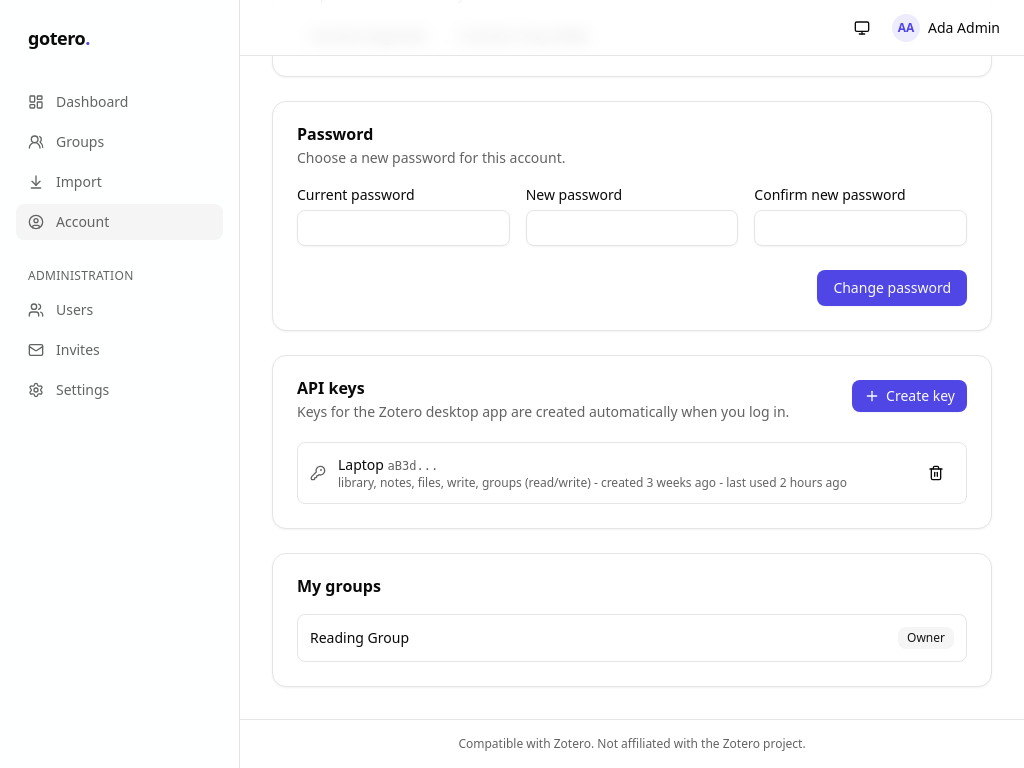
API keys › revokes a key after confirmation
The image size is (1024, 768).
(page scrolled)
Click the button named "Revoke Laptop" at (936, 473), box 918,455 -> 954,491
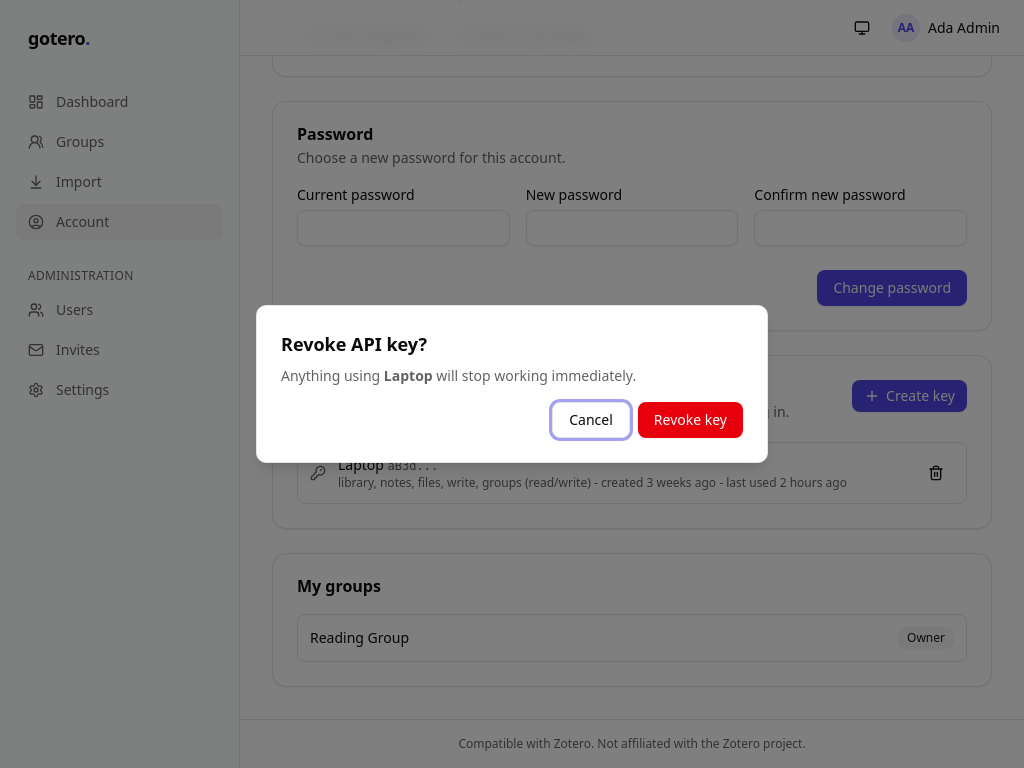
Click the button "Revoke key" at (690, 420), box 638,402 -> 743,438
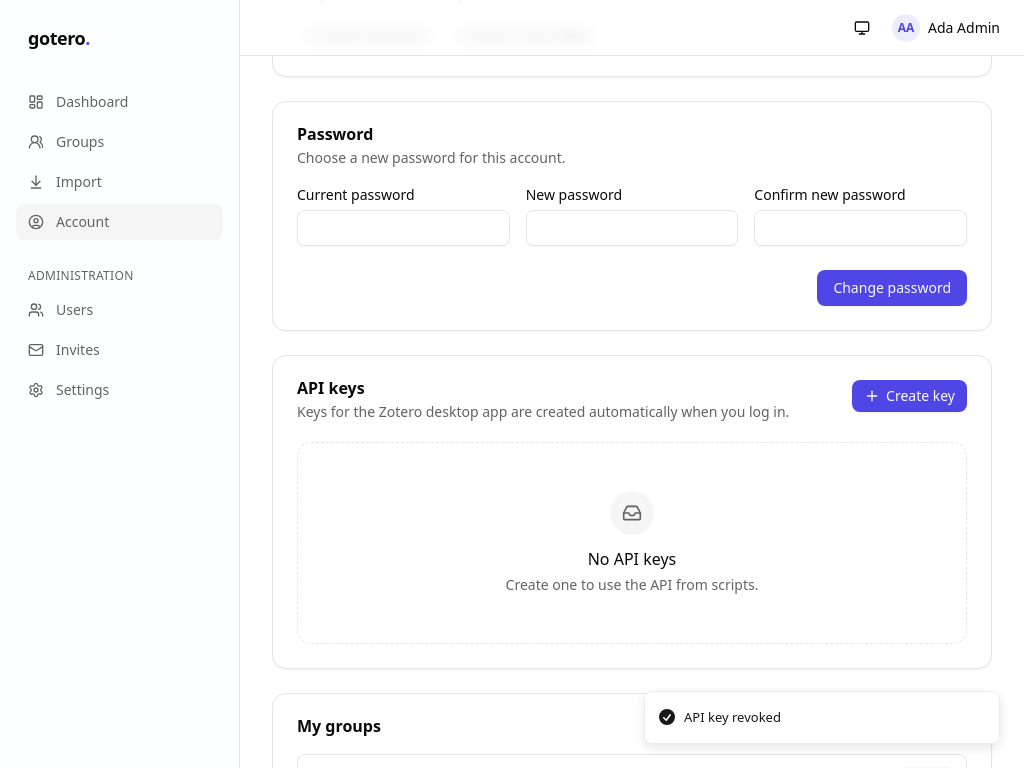
Now the text "No API keys" is shown, box 588,548 -> 676,570
